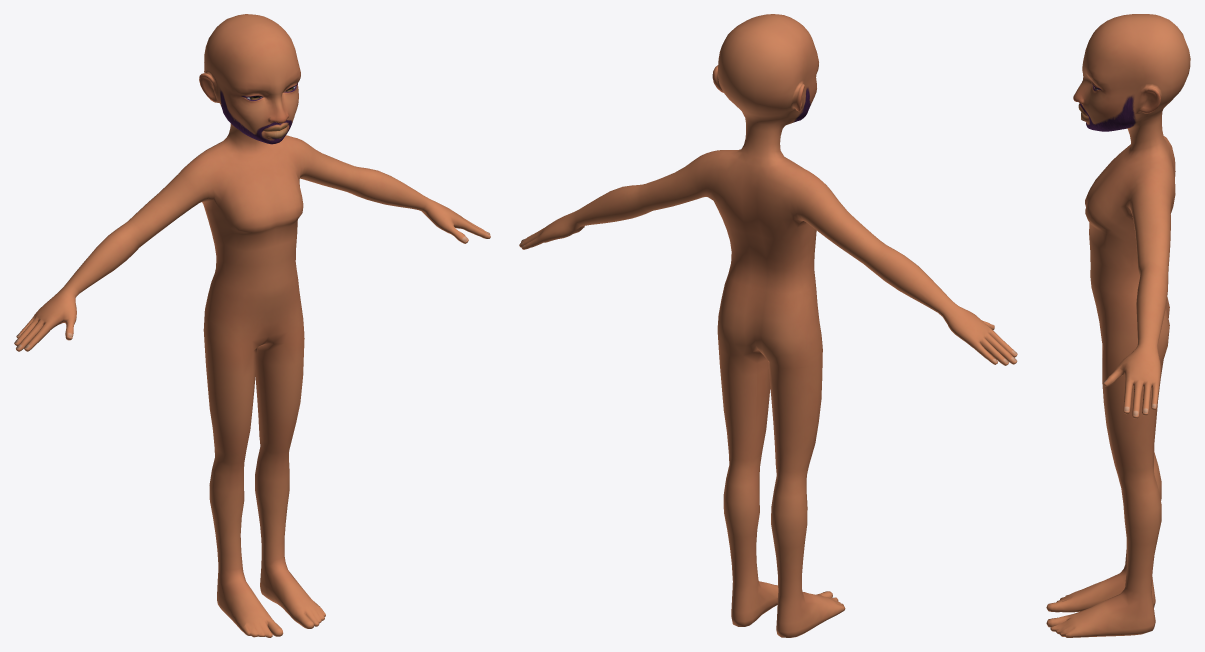
The model's file is frame_0074.glb.
The picture shows the model from 3 angles, left to right: view 1: azimuth 30°, elevation 25°; view 2: azimuth 150°, elevation 25°; view 3: azimuth 270°, elevation 25°; orthographic projection. The views are drawn at different scales.
Parts seen in each view (by area): view 1: frame_0074_head_geo; view 2: frame_0074_head_geo; view 3: frame_0074_head_geo.
Boxes of the visible parts, left/top/right/bottom form: frame_0074_head_geo: left=14, top=14, right=490, bottom=637; frame_0074_head_geo: left=519, top=14, right=1017, bottom=637; frame_0074_head_geo: left=1046, top=14, right=1190, bottom=637.
Size of the model in its own units: 1.28 by 1.5 by 0.3253.
3 materials, 3 textured.
